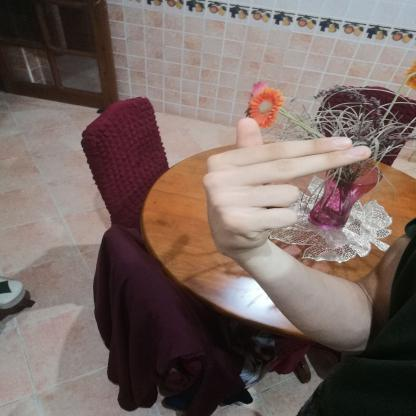GHAYN: (192, 111, 386, 265)
